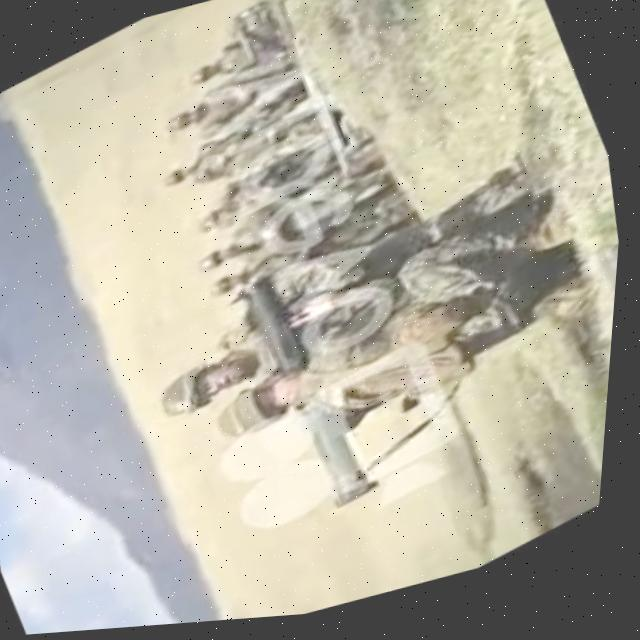rocket: (221, 245, 404, 539)
